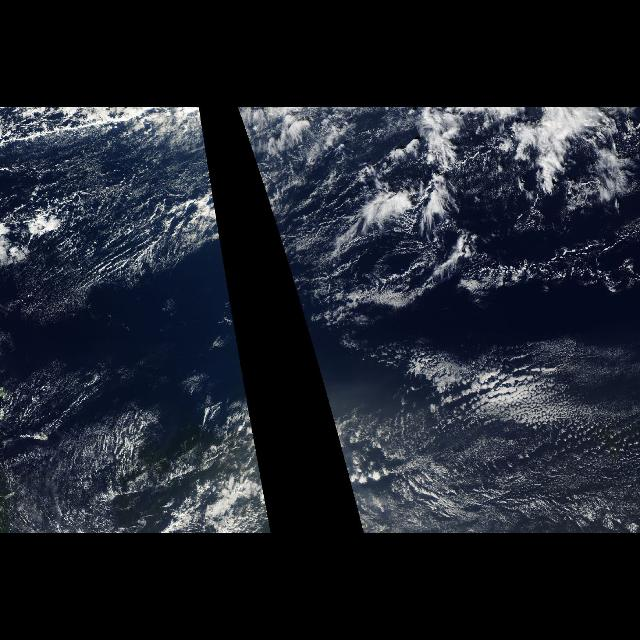Sugar: (332, 379, 640, 533), (8, 133, 215, 313), (0, 344, 172, 534)
